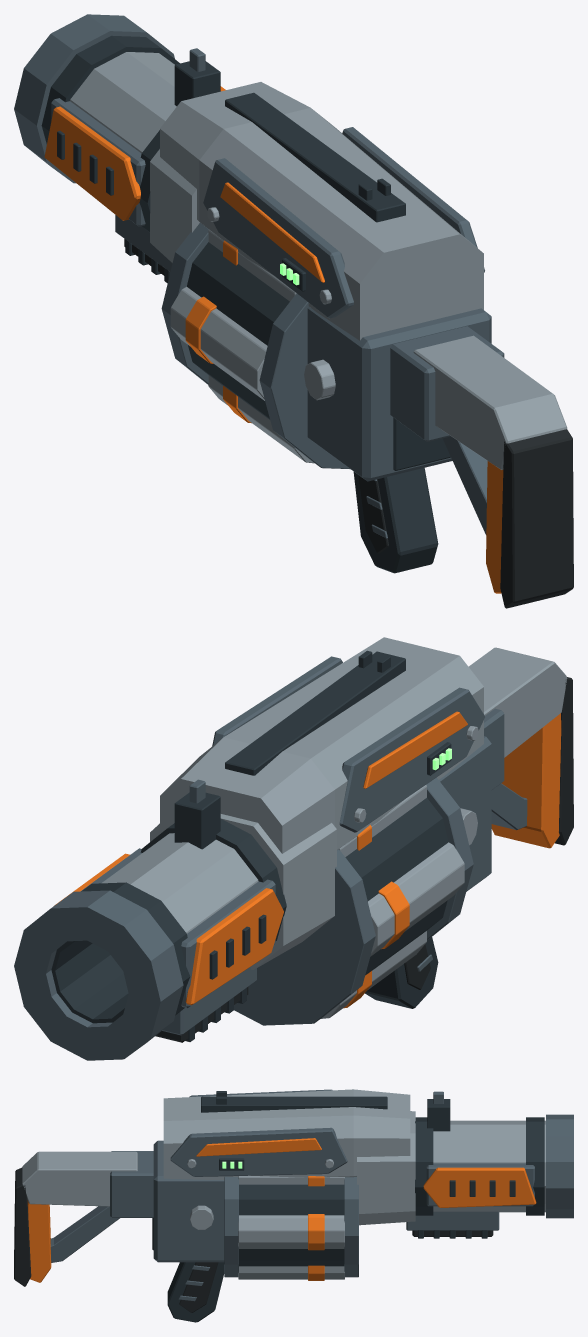
Rendered from concussion.glb.
The picture shows the model from 3 angles, top to bottom: view 1: azimuth 30°, elevation 25°; view 2: azimuth 150°, elevation 25°; view 3: azimuth 270°, elevation 25°; orthographic projection. The views are drawn at different scales.
Parts seen in each view (by area): view 1: Body | 01 | ceramic gray receiver, Body | 02 | machined edge metal, Body | 03 | graphite steel, Body | 05 | charcoal grip polymer, Body | 04 | burnt orange enamel, Magazine | 02 | machined edge metal, Magazine | 01 | ceramic gray receiver, Magazine | 03 | graphite steel, Magazine | 04 | burnt orange enamel; view 2: Body | 01 | ceramic gray receiver, Body | 02 | machined edge metal, Body | 03 | graphite steel, Magazine | 02 | machined edge metal, Body | 04 | burnt orange enamel, Magazine | 01 | ceramic gray receiver, Magazine | 03 | graphite steel, Body | 05 | charcoal grip polymer, Magazine | 04 | burnt orange enamel; view 3: Body | 01 | ceramic gray receiver, Body | 02 | machined edge metal, Body | 03 | graphite steel, Body | 04 | burnt orange enamel, Magazine | 03 | graphite steel, Magazine | 01 | ceramic gray receiver, Body | 05 | charcoal grip polymer, Magazine | 02 | machined edge metal, Magazine | 04 | burnt orange enamel.
Part boxes in pixels (bbox=[...]): Body | 01 | ceramic gray receiver: bbox=[70, 52, 567, 469]; Body | 02 | machined edge metal: bbox=[14, 14, 504, 538]; Body | 03 | graphite steel: bbox=[41, 35, 450, 573]; Body | 05 | charcoal grip polymer: bbox=[124, 239, 573, 608]; Body | 04 | burnt orange enamel: bbox=[44, 86, 503, 593]; Magazine | 02 | machined edge metal: bbox=[161, 222, 350, 469]; Magazine | 01 | ceramic gray receiver: bbox=[170, 229, 314, 463]; Magazine | 03 | graphite steel: bbox=[187, 242, 289, 419]; Magazine | 04 | burnt orange enamel: bbox=[185, 240, 251, 423]; Body | 01 | ceramic gray receiver: bbox=[101, 637, 567, 969]; Body | 02 | machined edge metal: bbox=[14, 656, 527, 1060]; Body | 03 | graphite steel: bbox=[51, 650, 451, 1041]; Magazine | 02 | machined edge metal: bbox=[234, 777, 473, 1025]; Body | 04 | burnt orange enamel: bbox=[54, 711, 561, 1005]; Magazine | 01 | ceramic gray receiver: bbox=[321, 785, 464, 1018]; Magazine | 03 | graphite steel: bbox=[345, 798, 448, 975]; Body | 05 | charcoal grip polymer: bbox=[155, 677, 573, 1042]; Magazine | 04 | burnt orange enamel: bbox=[343, 825, 409, 1008]; Body | 01 | ceramic gray receiver: bbox=[22, 1089, 545, 1229]; Body | 02 | machined edge metal: bbox=[50, 1089, 573, 1301]; Body | 03 | graphite steel: bbox=[152, 1091, 544, 1322]; Body | 04 | burnt orange enamel: bbox=[27, 1138, 536, 1282]; Magazine | 03 | graphite steel: bbox=[239, 1184, 344, 1266]; Magazine | 01 | ceramic gray receiver: bbox=[238, 1175, 344, 1279]; Body | 05 | charcoal grip polymer: bbox=[14, 1167, 493, 1312]; Magazine | 02 | machined edge metal: bbox=[224, 1176, 358, 1277]; Magazine | 04 | burnt orange enamel: bbox=[308, 1176, 324, 1280].
Bounding box in the file's own units: 0.2247 × 0.3716 × 0.841.
